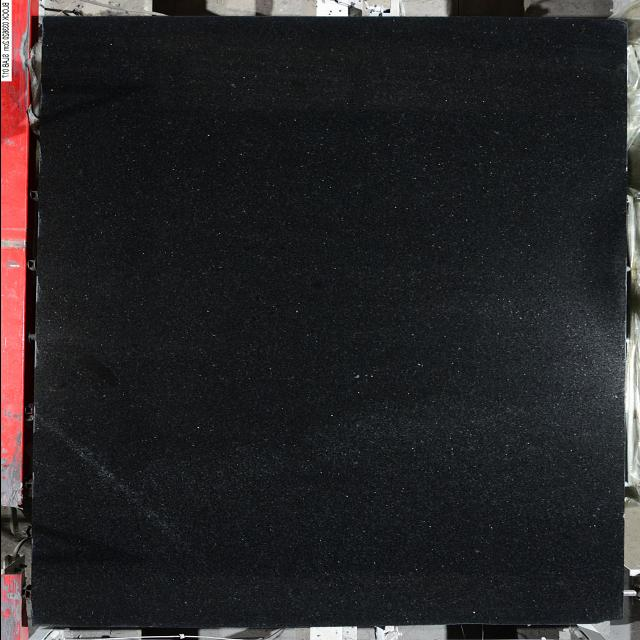chapa: (32, 16, 626, 628)
